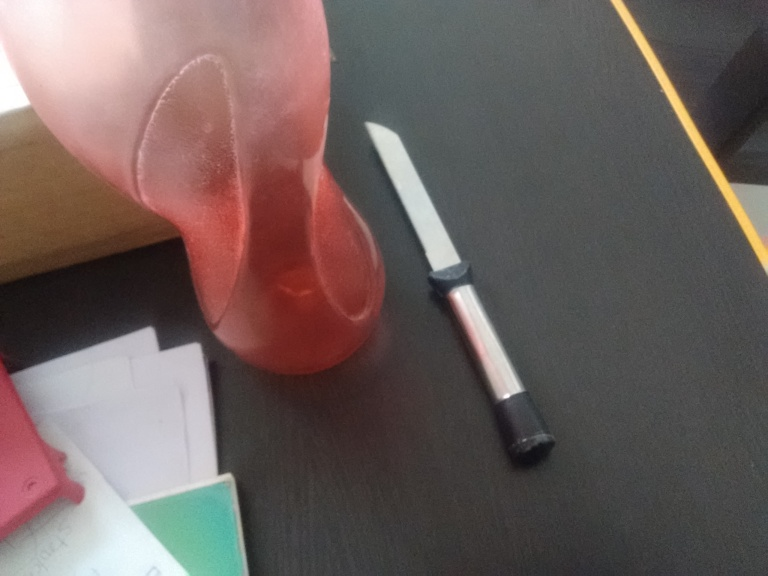knife: (364, 118, 557, 467)
